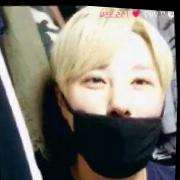WRONG: (60, 48, 174, 180)
